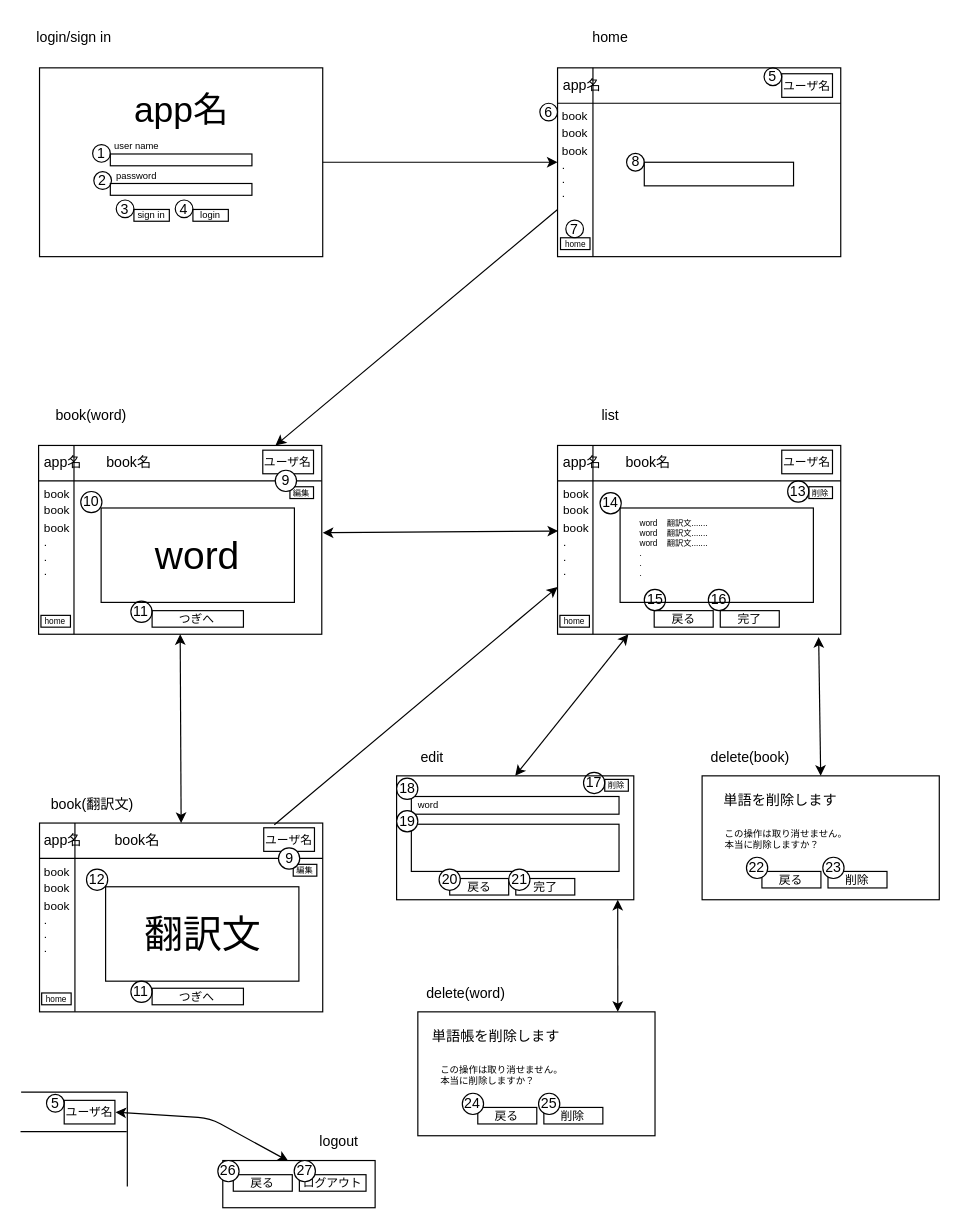
This 961x1228 diagram has some shape labels left out. Here are the shapes that lost their labels. From the top down, the centre of each, then its label:
At point 718,173: "復習する".
At point 514,847: "翻訳文........".
